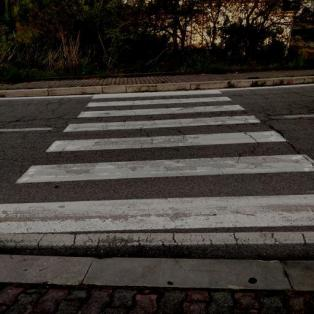Paso de Cebra: (0, 151, 314, 237), (59, 102, 268, 134)
